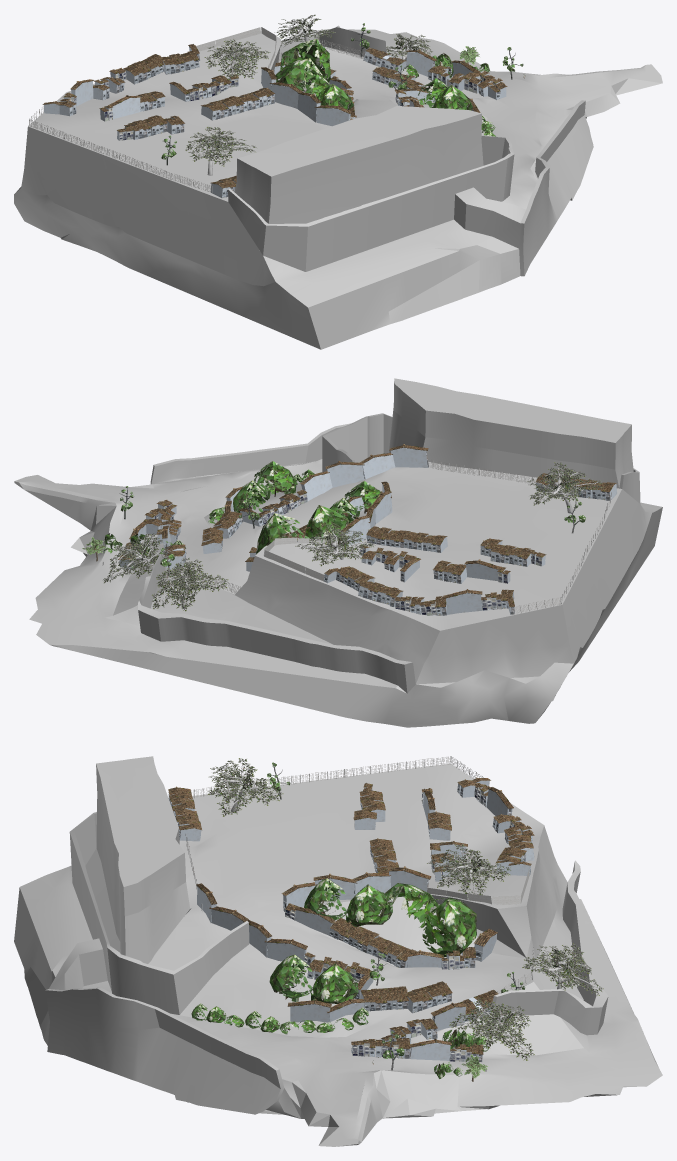
File: cementerioFilled.fbx
3 renders of one model, top to bottom at view 1: azimuth 30°, elevation 25°; view 2: azimuth 150°, elevation 25°; view 3: azimuth 270°, elevation 25°, orthographic. The views are drawn at different scales.
Parts seen in each view (by area): view 1: cementerio, Icosphere_001__4_, Icosphere_002__4_, Icosphere_001__2_, Icosphere_001__3_, Cube_015_43; view 2: cementerio, Icosphere_001__2_, Icosphere_002__4_, Icosphere_001__4_, Icosphere_002__2_, Cube_015_50, Cube_015_52, Cube_015_55, Icosphere_001__3_, Cube_015_44, Cube_015_42; view 3: cementerio, Icosphere_001__4_, Icosphere_002__3_, Icosphere_002__2_, Icosphere_001__2_, Icosphere_002__4_, Icosphere_001__3_, Cube_015_49, Cube_015_54, Cube_015_42.
Part boxes in pixels (left/top/right/bottom): cementerio: left=14, top=25, right=662, bottom=349; Icosphere_001__4_: left=280, top=39, right=330, bottom=83; Icosphere_002__4_: left=275, top=58, right=322, bottom=96; Icosphere_001__2_: left=432, top=85, right=473, bottom=110; Icosphere_001__3_: left=317, top=84, right=353, bottom=109; Cube_015_43: left=316, top=108, right=350, bottom=126; cementerio: left=14, top=378, right=662, bottom=727; Icosphere_001__2_: left=254, top=461, right=296, bottom=500; Icosphere_002__4_: left=305, top=505, right=350, bottom=542; Icosphere_001__4_: left=256, top=513, right=309, bottom=554; Icosphere_002__2_: left=233, top=480, right=269, bottom=513; Cube_015_50: left=327, top=464, right=364, bottom=487; Cube_015_52: left=391, top=447, right=428, bottom=467; Cube_015_55: left=446, top=592, right=482, bottom=614; Icosphere_001__3_: left=344, top=481, right=380, bottom=516; Cube_015_44: left=362, top=455, right=395, bottom=479; Cube_015_42: left=301, top=473, right=332, bottom=500; cementerio: left=14, top=756, right=662, bottom=1146; Icosphere_001__4_: left=422, top=897, right=476, bottom=957; Icosphere_002__3_: left=345, top=884, right=392, bottom=926; Icosphere_002__2_: left=310, top=963, right=358, bottom=1003; Icosphere_001__2_: left=269, top=954, right=312, bottom=1002; Icosphere_002__4_: left=377, top=883, right=438, bottom=930; Icosphere_001__3_: left=304, top=878, right=347, bottom=919; Cube_015_49: left=290, top=1004, right=330, bottom=1022; Cube_015_54: left=410, top=1042, right=450, bottom=1060; Cube_015_42: left=267, top=942, right=306, bottom=962.
Bounding box in the file's own units: 44395 × 11049 × 37083.
